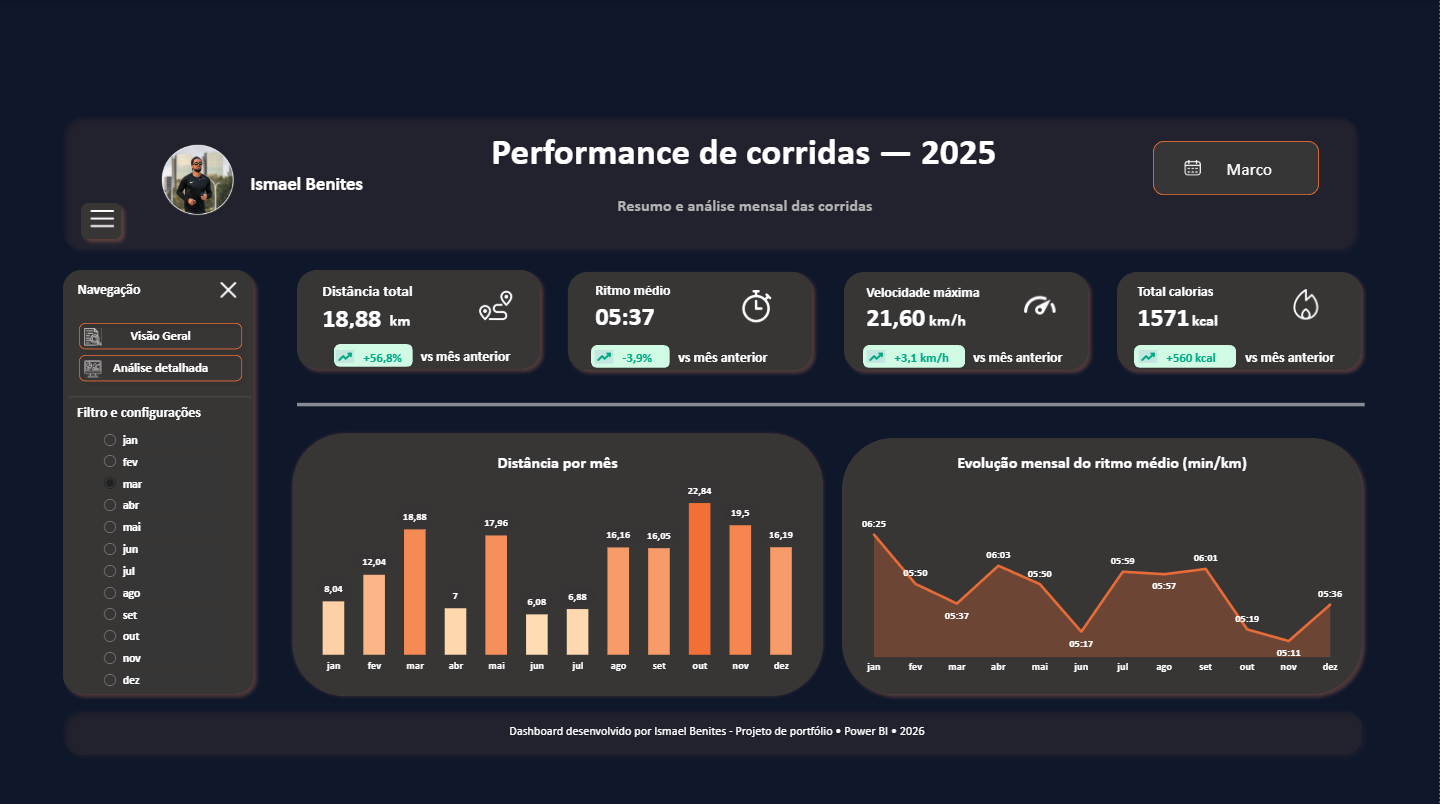

Layout of this report page (visuals, bound fields, positions):
{"tool":"powerbi","page":{"name":"Home","canvas":[1650,920],"ordinal":0},"visuals":[{"type":"shape","box":[65.3,125,1498.3,170],"z":0},{"type":"shape","box":[333.3,300,297,131.7],"z":1000},{"type":"shape","box":[643.5,302.3,297.7,131],"z":2000},{"type":"cardVisual","fields":{"Data":["Medidas.Distância total km"]},"box":[341.8,309.8,162.5,83.5],"z":3000},{"type":"actionButton","title":"km","box":[447.1,354.4,25.2,18.3],"z":4000},{"type":"image","box":[543.2,330.4,51.5,37.8],"z":5000},{"type":"shape","box":[384.1,394,90.4,26.3],"z":6000},{"type":"cardVisual","fields":{"Data":["Medidas.Variação distância %"]},"box":[356.7,383,143,49.2],"z":7000},{"type":"shape","title":"  vs mês anterior","box":[474.5,397.9,120.1,24],"z":8000},{"type":"shape","box":[959.3,302.3,297.7,131],"z":9000},{"type":"cardVisual","fields":{"Data":["Medidas.Ritmo mm:ss"]},"box":[654.2,309.8,161.3,83.5],"z":10000},{"type":"shape","box":[1271,302.3,297.7,131],"z":11000},{"type":"shape","box":[333.3,491.7,615,308.3],"z":12000},{"type":"clusteredColumnChart","title":"Distância por mês","fields":{"Y":["Medidas.Distância total km"],"Category":["dCalendario.Mês"]},"box":[348.3,516.7,585,260],"z":13000},{"type":"shape","box":[956.7,491.7,613.3,311.7],"z":14000},{"type":"lineChart","title":"Evolução mensal do ritmo médio (min/km)","fields":{"Y":["Medidas.Ritmo médio"],"Category":["dCalendario.Mês"]},"box":[978.3,516.7,570,261.7],"z":15000},{"type":"cardVisual","fields":{"Data":["Medidas.Velocidade máxima"]},"box":[964.5,312.2,188,81.9],"z":16000},{"type":"cardVisual","fields":{"Data":["Medidas.Total calorias"]},"box":[1275.2,311.6,187.8,82.1],"z":17000},{"type":"shape","box":[678,395,90.4,26.4],"z":18000},{"type":"cardVisual","fields":{"Data":["Medidas.Variação ritmo %"]},"box":[653.8,383,139.7,50.1],"z":19000},{"type":"shape","title":"  vs mês anterior","box":[768.9,399,121.1,24.5],"z":20000},{"type":"shape","box":[989.9,395.1,116.9,26.4],"z":21000},{"type":"cardVisual","fields":{"Data":["Medidas.KPI velocidade texto"]},"box":[965.1,382.9,165.2,49.4],"z":22000},{"type":"shape","title":"  vs mês anterior","box":[1106.8,399.3,121,23.7],"z":23000},{"type":"actionButton","title":"km/h","box":[1063.2,354.3,47,18.3],"z":24000},{"type":"shape","box":[1300.2,395.1,116.9,26.4],"z":25000},{"type":"shape","title":"  vs mês anterior","box":[1418.2,399,121.1,24.5],"z":26000},{"type":"actionButton","title":"kcal","box":[1360.9,354.3,41,18.3],"z":27000},{"type":"cardVisual","fields":{"Data":["Medidas.Variação calorias"]},"box":[1276.3,382.9,166.4,49.4],"z":28000},{"type":"image","box":[838.4,331.5,59.5,36.6],"z":29000},{"type":"image","box":[1166.8,331.5,50.3,35.5],"z":30000},{"type":"image","box":[1471.2,330.4,50.3,35.5],"z":31000},{"type":"shape","box":[341.7,446.7,1221.7,33.3],"z":32000},{"type":"shape","box":[85.3,223.3,65,60],"z":33000},{"type":"image","box":[102,240,35,26.7],"z":34000},{"type":"shape","box":[65,300,236.7,503.3],"z":35000},{"type":"actionButton","title":"Visão Geral","box":[83,360,205,48.3],"z":36000},{"type":"actionButton","title":"Visão Geral","box":[83.3,396.7,205,48.3],"z":37000},{"type":"shape","title":"Navegação","box":[81.7,321.7,91.7,23.3],"z":38000},{"type":"image","box":[250.7,322.3,26.7,18.3],"z":39000},{"type":"shape","title":"Filtro e configurações","box":[81.7,462,160,25],"z":40000},{"type":"actionButton","box":[92,228.3,58.3,48.3],"z":41000},{"type":"textbox","box":[560,141.7,593.3,71.7],"z":42000},{"type":"shape","box":[80,440,210,26.7],"z":43000},{"type":"image","box":[155,141.7,148.3,141.7],"z":44000},{"type":"textbox","box":[283.3,191.7,140,36.7],"z":45000},{"type":"textbox","box":[703.3,218.3,315,35],"z":46000},{"type":"shape","box":[65,803.3,1505,70],"z":47000},{"type":"textbox","box":[580,821.7,488.3,35],"z":48000},{"type":"shape","box":[1321.7,161.7,190,62],"z":49000},{"type":"cardVisual","fields":{"Data":["Medidas.Período selecionado"]},"box":[1328.5,165.9,178.5,52.6],"z":50000},{"type":"slicer","fields":{"Values":["dCalendario.Mês"]},"box":[108.3,486.7,156.7,309],"z":51000}]}

Visuals, with their boxes in screenshot pixels (x1, y1, x2, y2), scaled from the page's 1650x920 canvas onto the 1440x804 screenshot:
shape: BBox(57, 109, 1365, 258)
shape: BBox(291, 262, 550, 377)
shape: BBox(562, 264, 821, 379)
cardVisual - Medidas.Distância total km: BBox(298, 271, 440, 344)
"km" actionButton: BBox(390, 310, 412, 326)
image: BBox(474, 289, 519, 322)
shape: BBox(335, 344, 414, 367)
cardVisual - Medidas.Variação distância %: BBox(311, 335, 436, 378)
"  vs mês anterior" shape: BBox(414, 348, 519, 369)
shape: BBox(837, 264, 1097, 379)
cardVisual - Medidas.Ritmo mm:ss: BBox(571, 271, 712, 344)
shape: BBox(1109, 264, 1369, 379)
shape: BBox(291, 430, 828, 699)
"Distância por mês" clusteredColumnChart: BBox(304, 452, 815, 679)
shape: BBox(835, 430, 1370, 702)
"Evolução mensal do ritmo médio (min/km)" lineChart: BBox(854, 452, 1351, 680)
cardVisual - Medidas.Velocidade máxima: BBox(842, 273, 1006, 344)
cardVisual - Medidas.Total calorias: BBox(1113, 272, 1277, 344)
shape: BBox(592, 345, 671, 368)
cardVisual - Medidas.Variação ritmo %: BBox(571, 335, 693, 378)
"  vs mês anterior" shape: BBox(671, 349, 777, 370)
shape: BBox(864, 345, 966, 368)
cardVisual - Medidas.KPI velocidade texto: BBox(842, 335, 986, 378)
"  vs mês anterior" shape: BBox(966, 349, 1072, 370)
"km/h" actionButton: BBox(928, 310, 969, 326)
shape: BBox(1135, 345, 1237, 368)
"  vs mês anterior" shape: BBox(1238, 349, 1343, 370)
"kcal" actionButton: BBox(1188, 310, 1223, 326)
cardVisual - Medidas.Variação calorias: BBox(1114, 335, 1259, 378)
image: BBox(732, 290, 784, 322)
image: BBox(1018, 290, 1062, 321)
image: BBox(1284, 289, 1328, 320)
shape: BBox(298, 390, 1364, 419)
shape: BBox(74, 195, 131, 248)
image: BBox(89, 210, 120, 233)
shape: BBox(57, 262, 263, 702)
"Visão Geral" actionButton: BBox(72, 315, 251, 357)
"Visão Geral" actionButton: BBox(73, 347, 252, 389)
"Navegação" shape: BBox(71, 281, 151, 302)
image: BBox(219, 282, 242, 298)
"Filtro e configurações" shape: BBox(71, 404, 211, 426)
actionButton: BBox(80, 200, 131, 242)
textbox: BBox(489, 124, 1007, 186)
shape: BBox(70, 385, 253, 408)
image: BBox(135, 124, 265, 248)
textbox: BBox(247, 168, 369, 200)
textbox: BBox(614, 191, 889, 221)
shape: BBox(57, 702, 1370, 763)
textbox: BBox(506, 718, 932, 749)
shape: BBox(1153, 141, 1319, 195)
cardVisual - Medidas.Período selecionado: BBox(1159, 145, 1315, 191)
slicer - dCalendario.Mês: BBox(95, 425, 231, 695)
